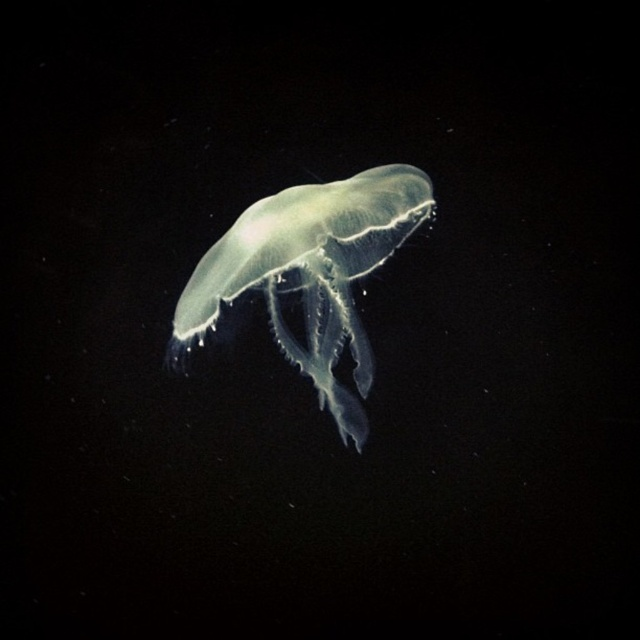Jellyfish: (163, 164, 438, 455)
